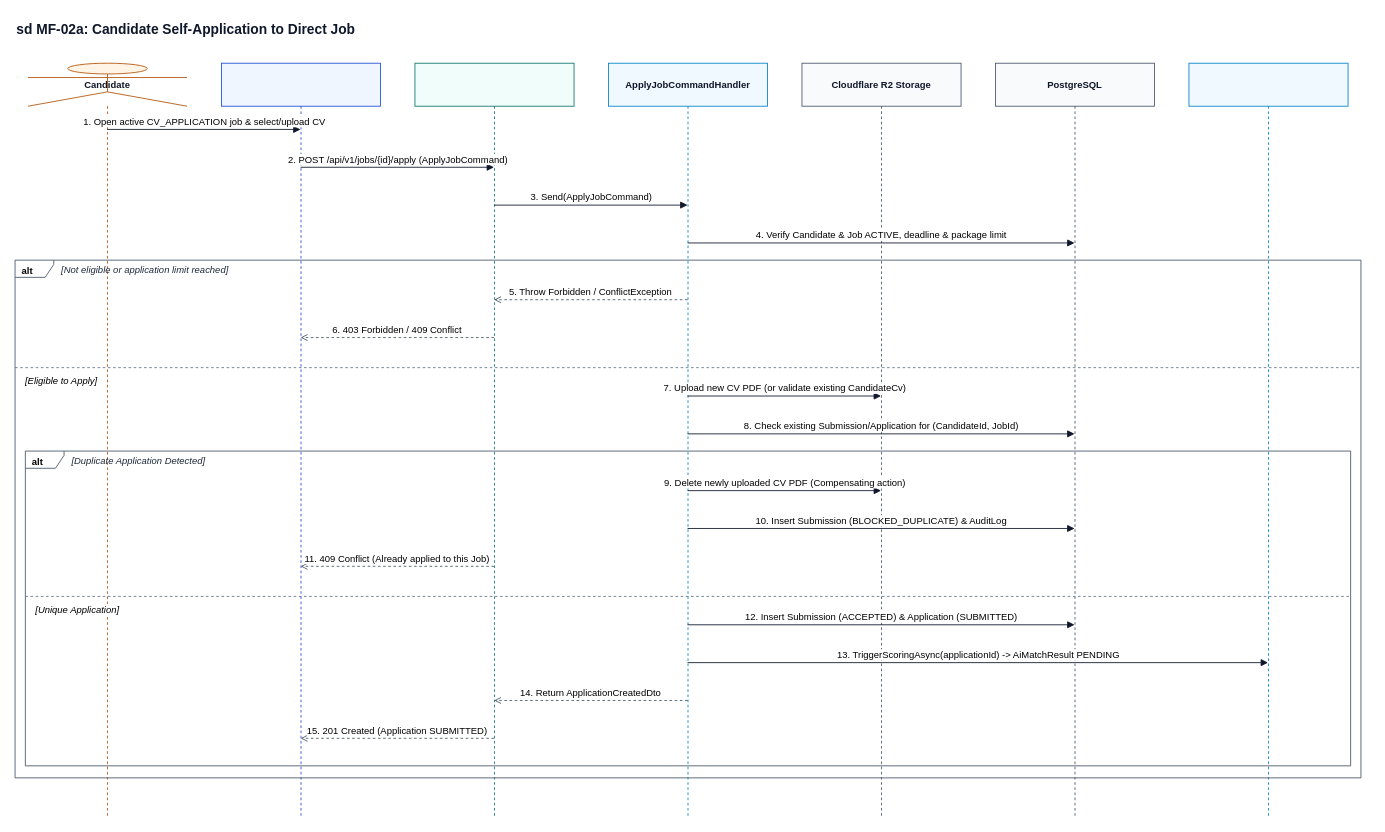
The diagram is 1385 pixels wide and 832 high, and some of its shapes have lost their labels. The box of each missing label's shape, as (x1, y1, x2, y2) in pixels:
JobEndpoints: (414, 62, 574, 817)
Mf03ScoringTrigger: (1188, 62, 1348, 817)
Web App (HRConnect-FE): (221, 62, 381, 817)
